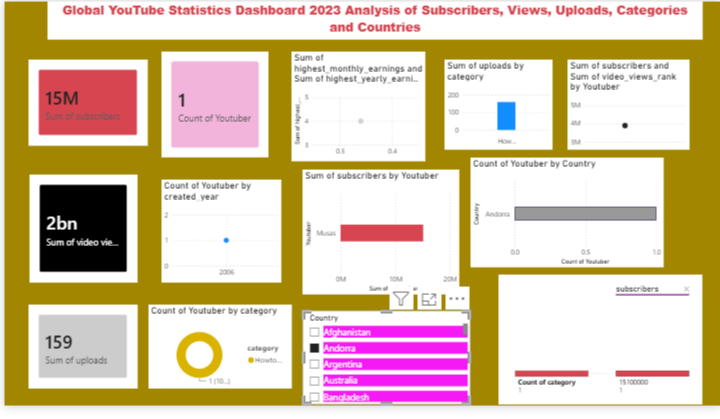

The page's visual inventory and layout, read from the dashboard file:
{"tool":"powerbi","page":{"name":"Page 1","canvas":[1280,720],"ordinal":0},"visuals":[{"type":"cardVisual","fields":{"Data":["Sum(Global YouTube Statistics.subscribers)"]},"box":[42.9,103.6,212.5,153.6],"z":0},{"type":"cardVisual","fields":{"Data":["Sum(Global YouTube Statistics.video views)"]},"box":[44.6,308.9,192.9,192.9],"z":1000},{"type":"cardVisual","fields":{"Data":["Sum(Global YouTube Statistics.uploads)"]},"box":[42.9,541.1,194.6,150],"z":2000},{"type":"cardVisual","fields":{"Data":["Count(Global YouTube Statistics.Youtuber)"]},"box":[280.4,89.3,191.1,189.3],"z":3000},{"type":"clusteredBarChart","fields":{"Category":["Global YouTube Statistics.Youtuber"],"Y":["Sum(Global YouTube Statistics.subscribers)"]},"box":[532.1,300,280.4,223.2],"z":4000},{"type":"decompositionTreeVisual","fields":{"Analyze":["CountNonNull(Global YouTube Statistics.category)"],"ExplainBy":["Global YouTube Statistics.subscribers"]},"box":[882.1,487.5,364.3,232.1],"z":5000},{"type":"clusteredBarChart","fields":{"Y":["CountNonNull(Global YouTube Statistics.Youtuber)"],"Category":["Global YouTube Statistics.Country"]},"box":[832.1,278.6,344.6,196.4],"z":6000},{"type":"donutChart","fields":{"Category":["Global YouTube Statistics.category"],"Y":["CountNonNull(Global YouTube Statistics.Youtuber)"]},"box":[257.1,541.1,256,150],"z":7000},{"type":"scatterChart","fields":{"X":["Sum(Global YouTube Statistics.subscribers)"],"Y":["Sum(Global YouTube Statistics.video_views_rank)"],"Category":["Global YouTube Statistics.Youtuber"]},"box":[1005.4,103.6,217.9,160.7],"z":8000},{"type":"scatterChart","fields":{"X":["Sum(Global YouTube Statistics.highest_monthly_earnings)"],"Y":["Sum(Global YouTube Statistics.highest_yearly_earnings)"],"Category":["Global YouTube Statistics.Youtuber"]},"box":[512.5,89.3,239.3,196.4],"z":9000},{"type":"clusteredColumnChart","fields":{"Y":["Sum(Global YouTube Statistics.uploads)"],"Category":["Global YouTube Statistics.category"]},"box":[785.7,103.6,192.9,160.7],"z":10000},{"type":"lineChart","fields":{"Category":["Global YouTube Statistics.created_year"],"Y":["CountNonNull(Global YouTube Statistics.Youtuber)"]},"box":[280.4,317.9,214.3,183.9],"z":11000},{"type":"slicer","fields":{"Values":["Global YouTube Statistics.Country"]},"box":[532.1,551.8,300,167.9],"z":12000},{"type":"textbox","title":"Global YouTube Statistics Dashboard 2023 Analysis of Subscribers, Views, Uploads, Categories and Countries","box":[76.8,0,1169.6,67.9],"z":13000}]}

Visuals, with their boxes in screenshot pixels (x1, y1, x2, y2):
cardVisual - Sum(Global YouTube Statistics.subscribers): (x1=29, y1=59, x2=147, y2=145)
cardVisual - Sum(Global YouTube Statistics.video views): (x1=30, y1=173, x2=137, y2=280)
cardVisual - Sum(Global YouTube Statistics.uploads): (x1=29, y1=302, x2=137, y2=385)
cardVisual - Count(Global YouTube Statistics.Youtuber): (x1=161, y1=51, x2=267, y2=156)
clusteredBarChart - Global YouTube Statistics.Youtuber x Sum(Global YouTube Statistics.subscribers): (x1=301, y1=168, x2=456, y2=292)
decompositionTreeVisual - CountNonNull(Global YouTube Statistics.category) x Global YouTube Statistics.subscribers: (x1=495, y1=272, x2=697, y2=401)
clusteredBarChart - CountNonNull(Global YouTube Statistics.Youtuber) x Global YouTube Statistics.Country: (x1=467, y1=156, x2=658, y2=265)
donutChart - Global YouTube Statistics.category x CountNonNull(Global YouTube Statistics.Youtuber): (x1=148, y1=302, x2=290, y2=385)
scatterChart - Sum(Global YouTube Statistics.subscribers) x Sum(Global YouTube Statistics.video_views_rank): (x1=563, y1=59, x2=684, y2=148)
scatterChart - Sum(Global YouTube Statistics.highest_monthly_earnings) x Sum(Global YouTube Statistics.highest_yearly_earnings): (x1=290, y1=51, x2=423, y2=160)
clusteredColumnChart - Sum(Global YouTube Statistics.uploads) x Global YouTube Statistics.category: (x1=441, y1=59, x2=548, y2=148)
lineChart - Global YouTube Statistics.created_year x CountNonNull(Global YouTube Statistics.Youtuber): (x1=161, y1=178, x2=280, y2=280)
slicer - Global YouTube Statistics.Country: (x1=301, y1=308, x2=467, y2=401)
"Global YouTube Statistics Dashboard 2023 Analysis of Subscribers, Views, Uploads, Categories and Countries" textbox: (x1=48, y1=2, x2=697, y2=40)
